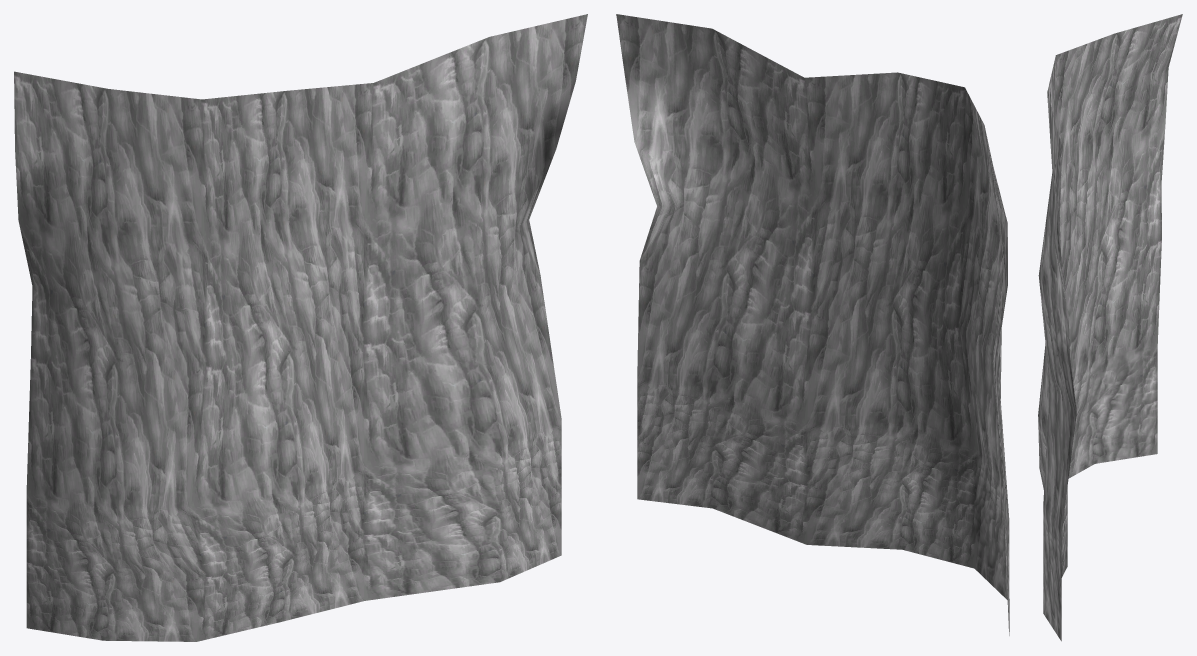
Rendered from SWORDLIGHT20_PS-AREA03_33.fbx.
3 views of the same model, side by side, from view 1: azimuth 30°, elevation 25°; view 2: azimuth 150°, elevation 25°; view 3: azimuth 270°, elevation 25° (orthographic). The views are drawn at different scales.
Visible parts, largest first — view 1: SWORDLIGHT20_PS-AREA03_33; view 2: SWORDLIGHT20_PS-AREA03_33; view 3: SWORDLIGHT20_PS-AREA03_33.
Boxes of the visible parts, left/top/right/bottom form: SWORDLIGHT20_PS-AREA03_33: left=14, top=14, right=587, bottom=641; SWORDLIGHT20_PS-AREA03_33: left=616, top=14, right=1009, bottom=635; SWORDLIGHT20_PS-AREA03_33: left=1038, top=14, right=1182, bottom=641.
Size of the model in its own units: 196861 by 204001 by 60267.
Materials: 1 (1 with a texture image).
